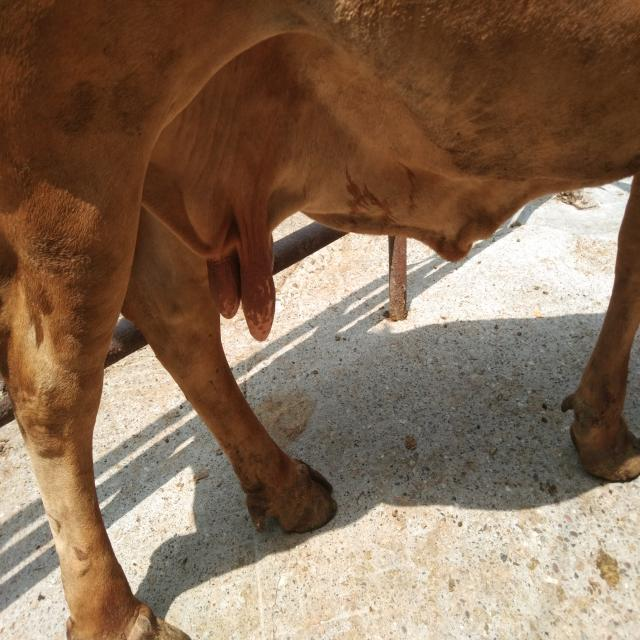Hoof: (561, 391, 639, 483), (245, 457, 337, 535), (65, 599, 191, 639)
